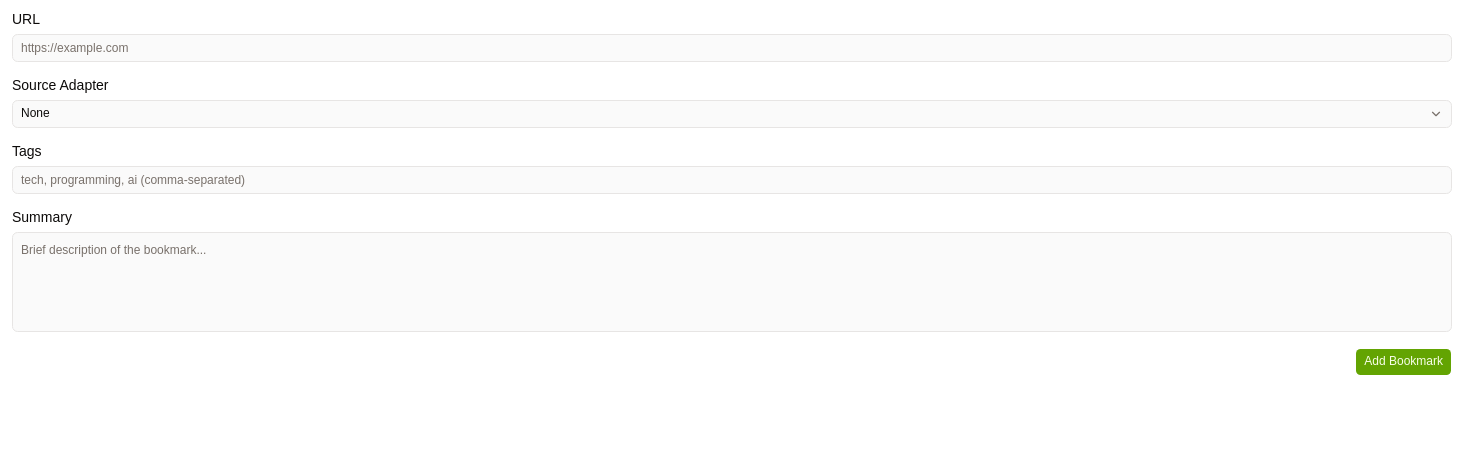
Test: BookmarkForm › should validate URL is required
Click the button "Add Bookmark". click: x=1404, y=362
box: [1355,348,1452,376]
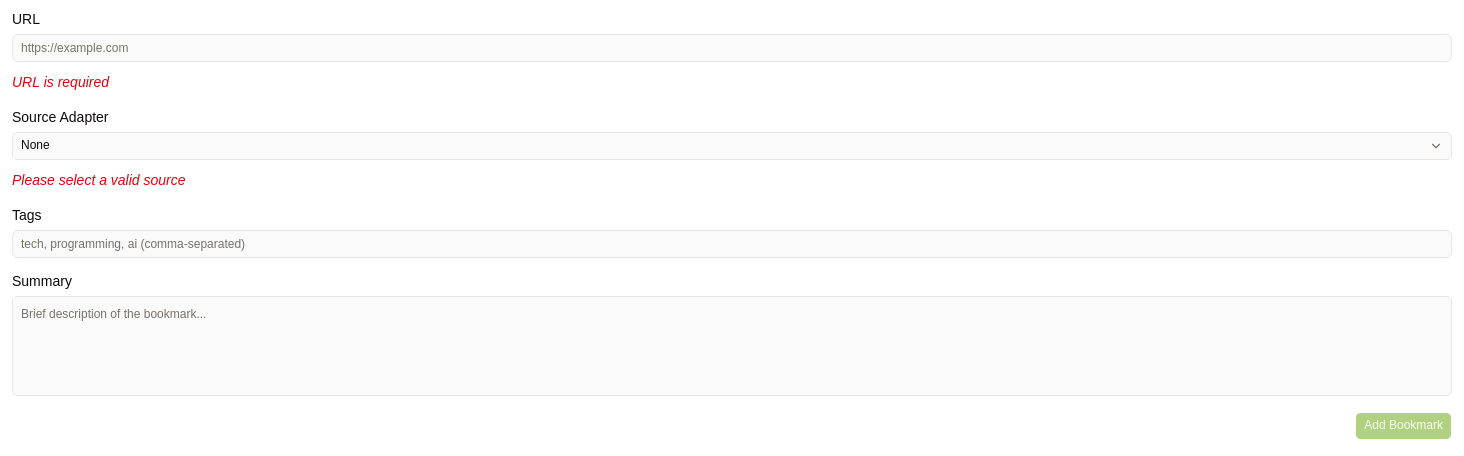
Now the text "URL is required" is shown, box [12,74,109,90]
